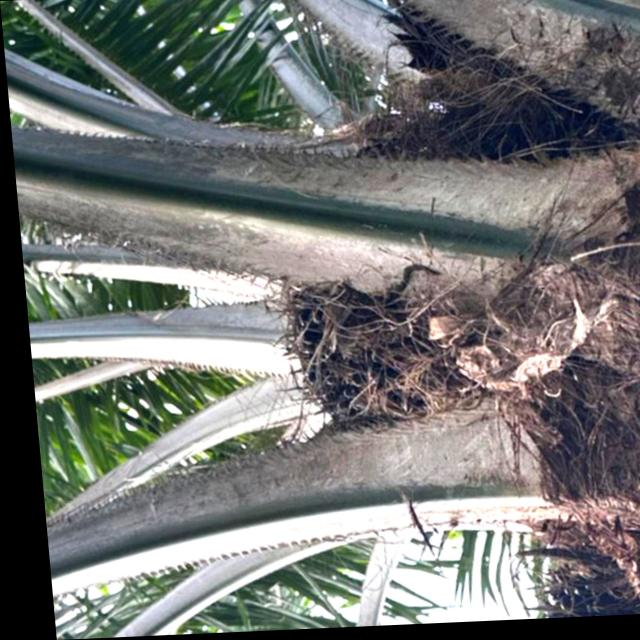unripe: (257, 262, 472, 453)
